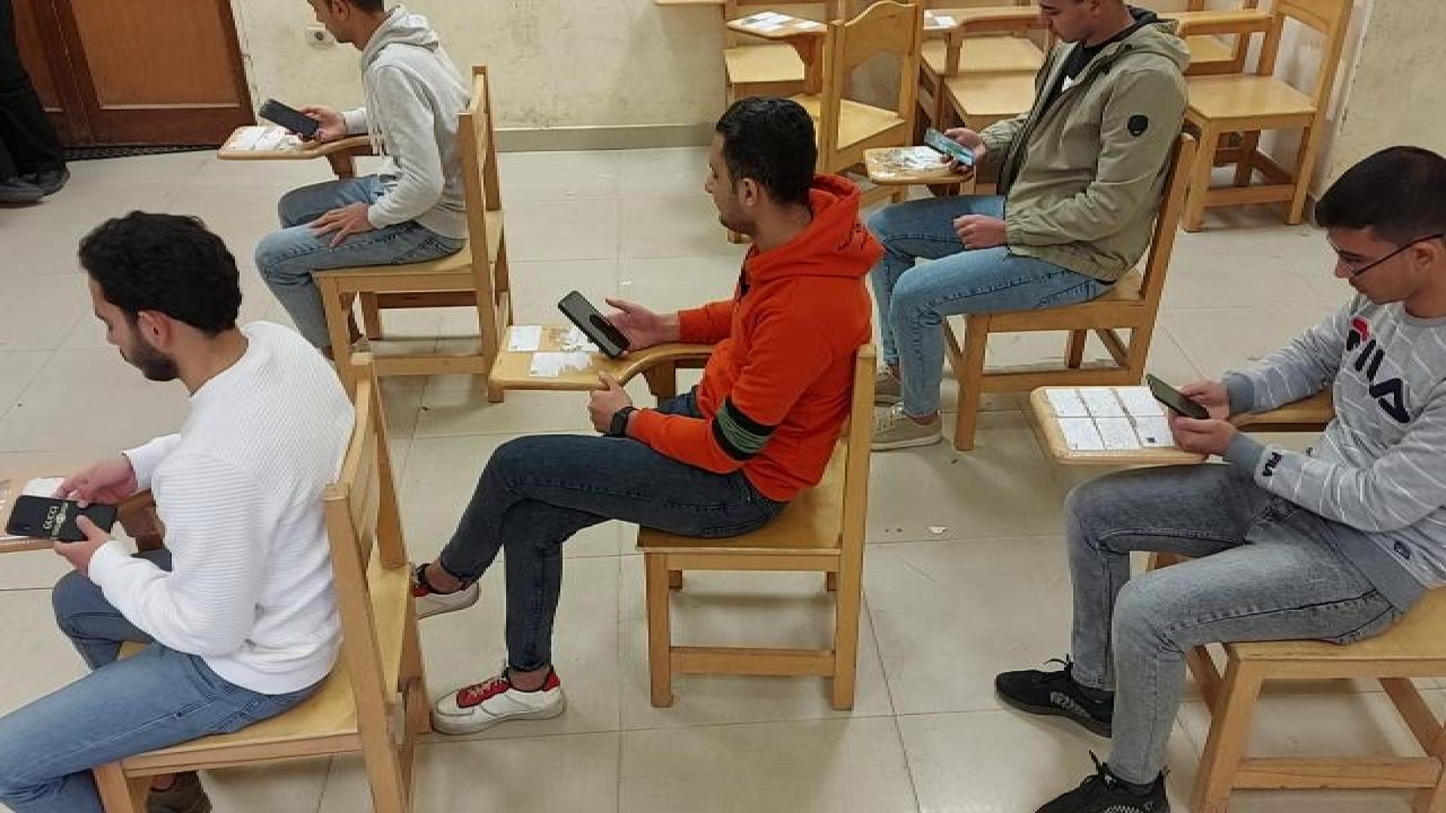phone: (1, 490, 125, 554), (552, 289, 636, 363), (1146, 371, 1220, 436), (259, 95, 326, 147), (918, 124, 984, 176)
